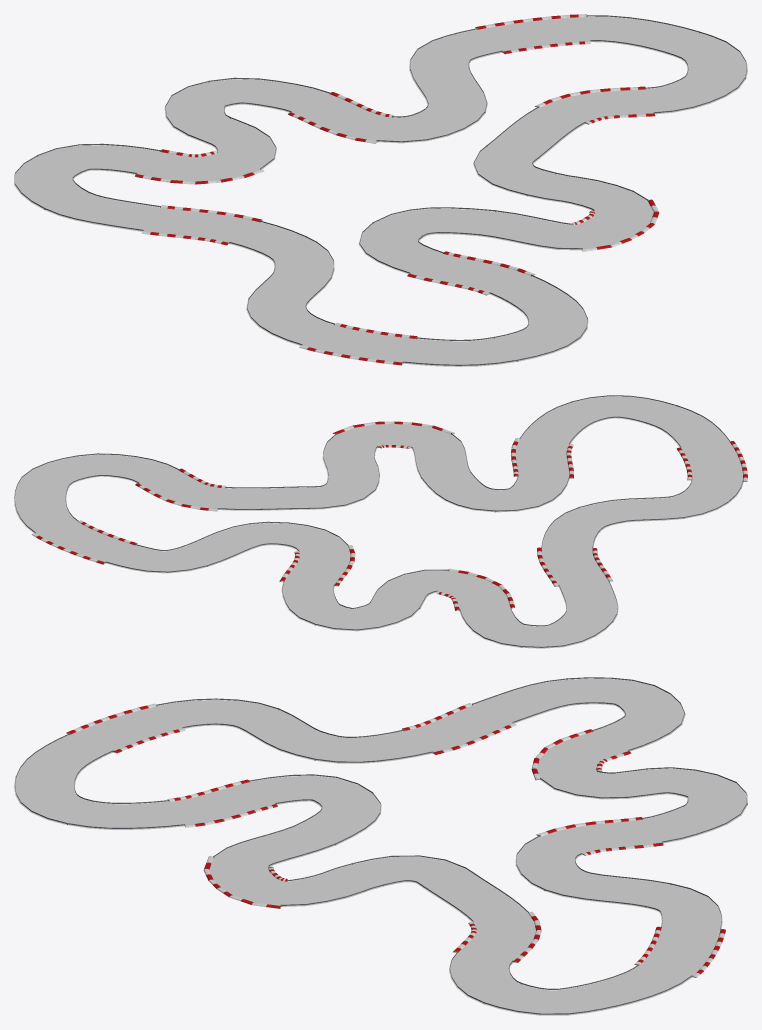
Rendered from Road.FBX.
The picture shows the model from 3 angles, top to bottom: view 1: azimuth 30°, elevation 25°; view 2: azimuth 150°, elevation 25°; view 3: azimuth 270°, elevation 25°; orthographic projection. The views are drawn at different scales.
Visible parts, largest first — view 1: Object073; view 2: Object073; view 3: Object073.
Boxes of the visible parts, left/top/right/bottom form: Object073: left=14, top=14, right=747, bottom=366; Object073: left=14, top=395, right=747, bottom=648; Object073: left=14, top=677, right=747, bottom=1015.
Bounding box in the file's own units: 46425 × 114 × 42710.
